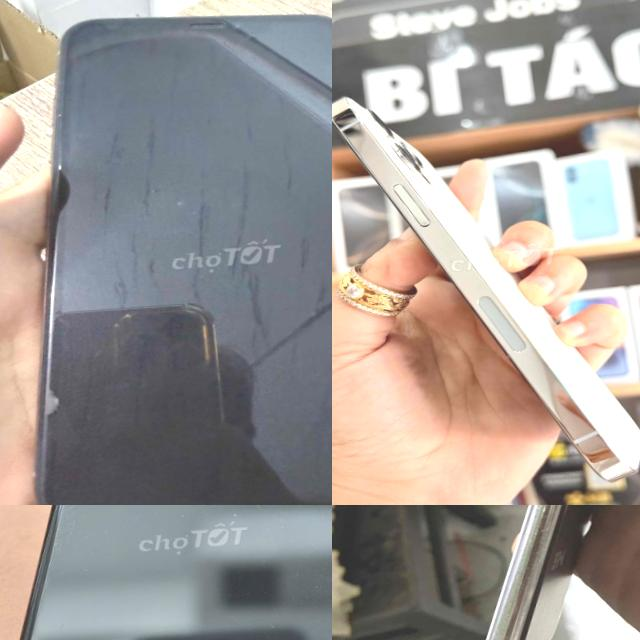gen_11: (441, 505, 640, 640)
gen_12_13: (332, 64, 640, 504)
gen_x_xs: (0, 0, 332, 505), (20, 505, 332, 640)
physical_damage: (24, 368, 82, 436)
scratch: (38, 90, 88, 196), (477, 574, 532, 640), (251, 505, 325, 546), (222, 578, 277, 626), (303, 544, 332, 620), (55, 505, 97, 556), (126, 626, 225, 640), (65, 554, 100, 582), (212, 505, 256, 527), (258, 614, 282, 640), (281, 560, 302, 588), (171, 505, 195, 526), (252, 552, 276, 573), (58, 617, 76, 635)
